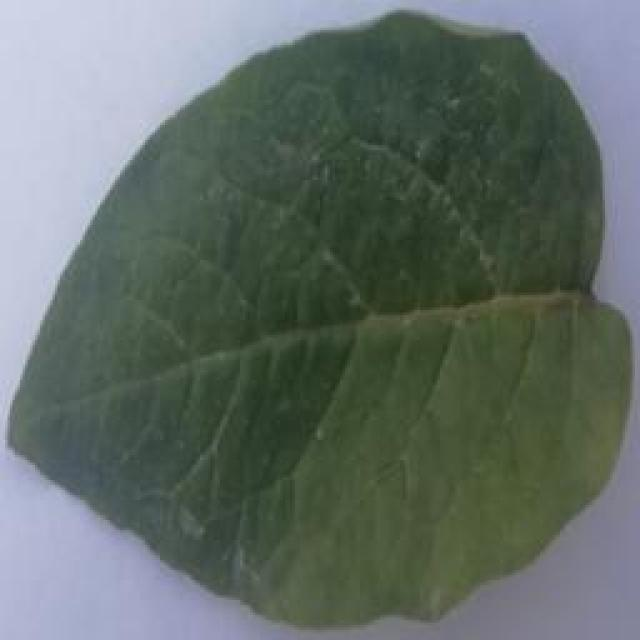Potato_Healthy: (7, 10, 620, 628)
